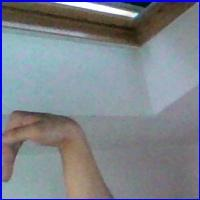del: (5, 106, 86, 187)
